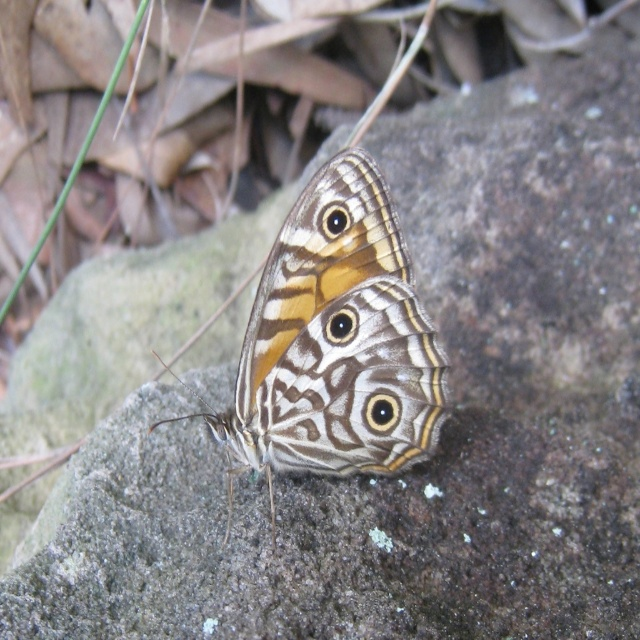Butterfly: (137, 132, 438, 516)
